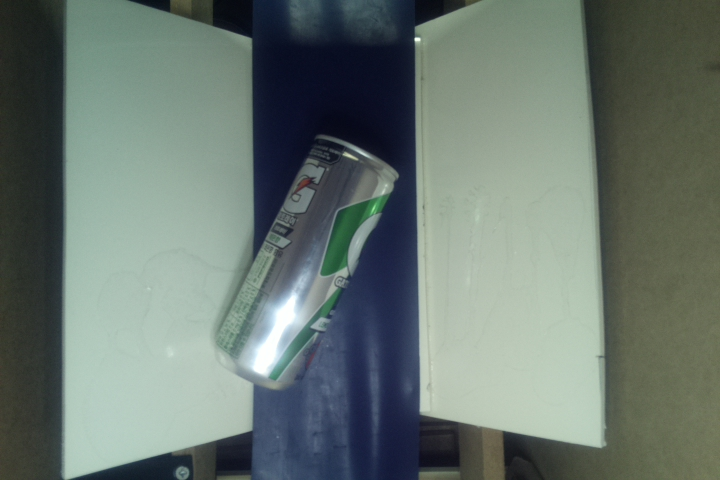can: (213, 129, 396, 393)
